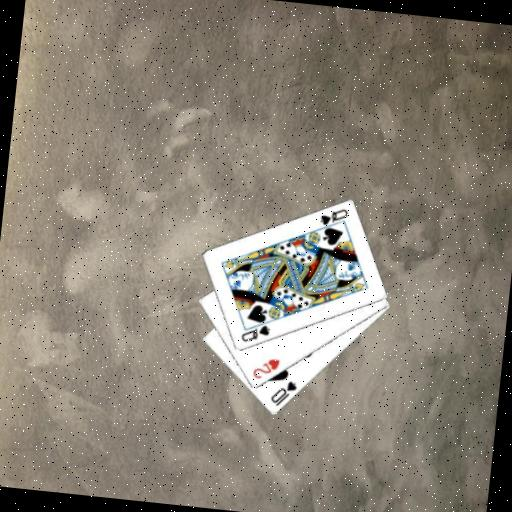10S: (267, 377, 299, 410)
2H: (249, 353, 282, 383)
QS: (238, 321, 272, 347), (316, 204, 350, 230)
